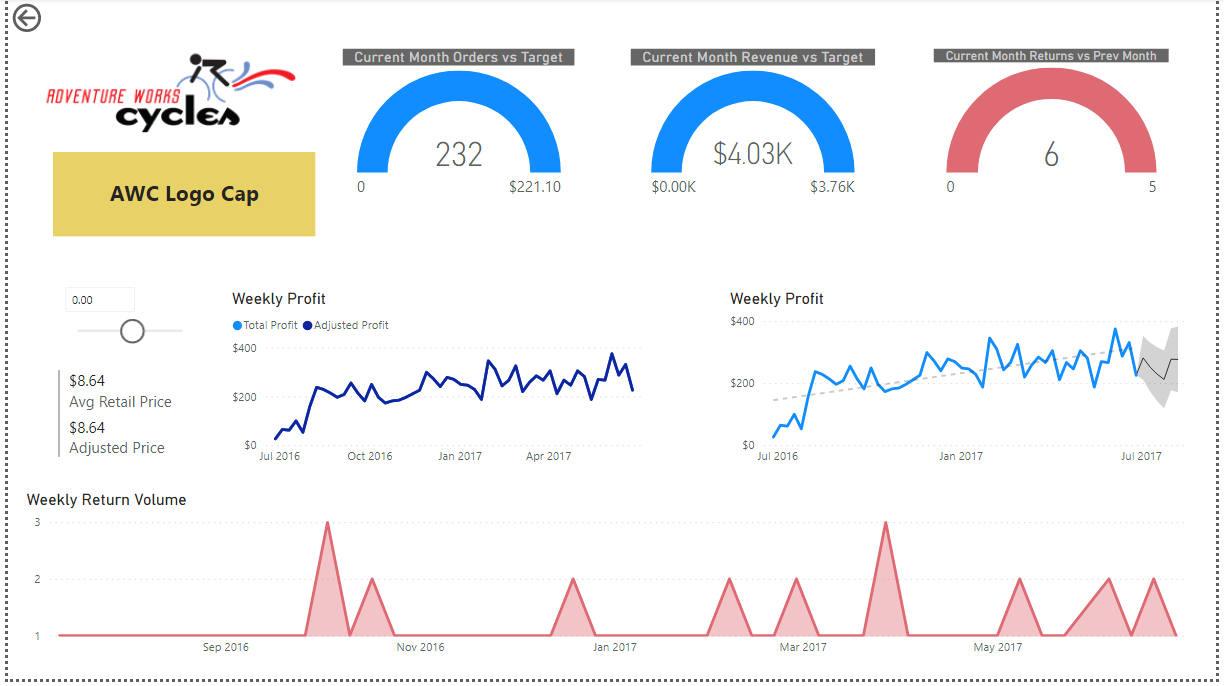

What the dashboard file says about the page in this screenshot:
{"tool":"powerbi","page":{"name":"Product Detail","canvas":[1280,720],"ordinal":1},"visuals":[{"type":"image","box":[34.5,52.5,279,93.5],"z":0},{"type":"lineChart","title":"Weekly Profit","fields":{"Y":["AW_Sales.Total Profit"],"Category":["AW_Calendar_Lookup.Start of Week"]},"box":[759.8,306.9,507.1,196.9],"z":1000},{"type":"stackedAreaChart","title":"Weekly Return Volume","fields":{"Category":["AW_Calendar_Lookup.Start of Week"],"Y":["AW_Returns.Total Returns"]},"box":[14.3,519.7,1254,186],"z":2000},{"type":"gauge","title":"Current Month Orders vs Target","fields":{"Y":["AW_Sales.Total Orders"],"MaxValue":["AW_Sales.Order Target"]},"box":[354.5,52.5,246.2,167.4],"z":3000},{"type":"gauge","title":"Current Month Revenue vs Target","fields":{"Y":["AW_Sales.Total Revenue"],"MaxValue":["AW_Sales.Revenue Target"]},"box":[659.7,52.5,259.3,167.4],"z":4000},{"type":"gauge","title":"Current Month Returns vs Prev Month","fields":{"Y":["AW_Returns.Total Returns"],"MaxValue":["AW_Returns.Prev Month Returns"]},"box":[981.3,52.5,249.4,167.4],"z":5000},{"type":"card","fields":{"Values":["Min(AW_Product_Lookup.ProductName)"]},"box":[47.7,162.1,278.1,89],"z":6000},{"type":"actionButton","box":[0,0,100,40],"z":7000},{"type":"slicer","fields":{"Values":["Price adjustment (%).Price adjustment (%)"]},"box":[47.7,295.6,160.5,79.5],"z":8000},{"type":"multiRowCard","fields":{"Values":["AW_Product_Lookup.Avg Retail Price","AW_Product_Lookup.Adjusted Price"]},"box":[47.6,387.3,139.5,105],"z":9000},{"type":"lineChart","title":"Weekly Profit","fields":{"Y":["AW_Sales.Total Profit","AW_Sales.Adjusted Profit"],"Category":["AW_Calendar_Lookup.Start of Week"]},"box":[231.4,306.9,459.5,196.9],"z":10000}]}

Visuals, with their boxes in screenshot pixels (x1, y1, x2, y2), scaled from the page's 1280x720 canvas onto the 1224x686 screenshot:
image: box=[33, 50, 300, 139]
"Weekly Profit" lineChart: box=[727, 292, 1211, 480]
"Weekly Return Volume" stackedAreaChart: box=[14, 495, 1213, 672]
"Current Month Orders vs Target" gauge: box=[339, 50, 574, 210]
"Current Month Revenue vs Target" gauge: box=[631, 50, 879, 210]
"Current Month Returns vs Prev Month" gauge: box=[938, 50, 1177, 210]
card - Min(AW_Product_Lookup.ProductName): box=[46, 154, 312, 239]
actionButton: box=[0, 0, 96, 38]
slicer - Price adjustment (%).Price adjustment (%): box=[46, 282, 199, 357]
multiRowCard - AW_Product_Lookup.Avg Retail Price x AW_Product_Lookup.Adjusted Price: box=[46, 369, 179, 469]
"Weekly Profit" lineChart: box=[221, 292, 661, 480]
